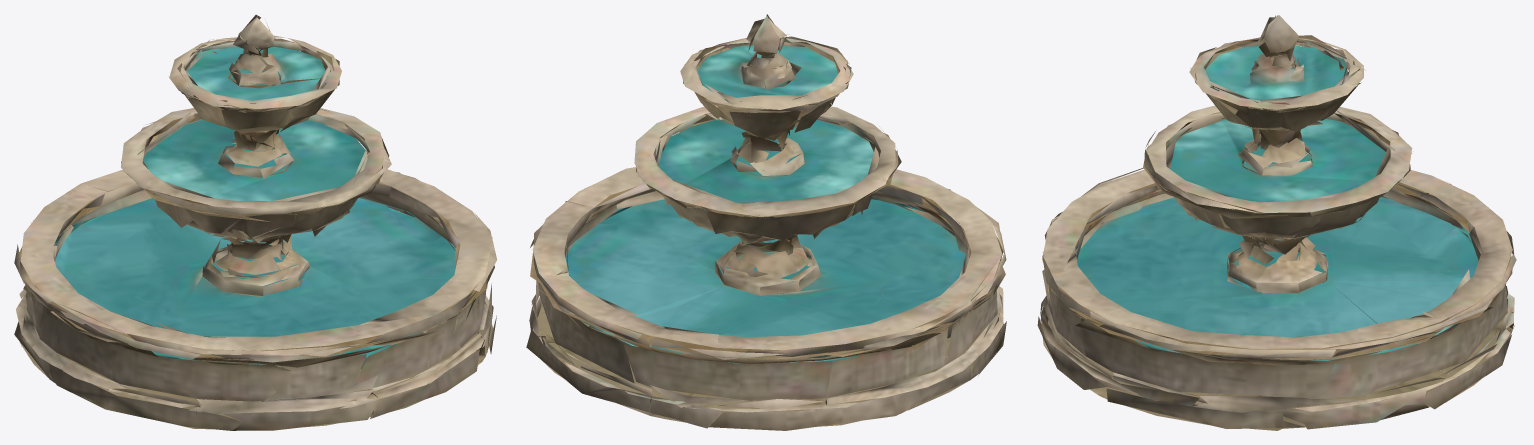
Rendered from stadt_brunnen.glb.
3 renders of one model, left to right at view 1: azimuth 30°, elevation 25°; view 2: azimuth 150°, elevation 25°; view 3: azimuth 270°, elevation 25°, orthographic.
Visible parts, largest first — view 1: Prop; view 2: Prop; view 3: Prop.
Part boxes in pixels (bbox=[...]): Prop: bbox=[14, 14, 496, 430]; Prop: bbox=[526, 14, 1006, 430]; Prop: bbox=[1037, 15, 1516, 430].
Size of the model in its own units: 1.38 by 1.01 by 1.39.
1 material, 1 textured.
